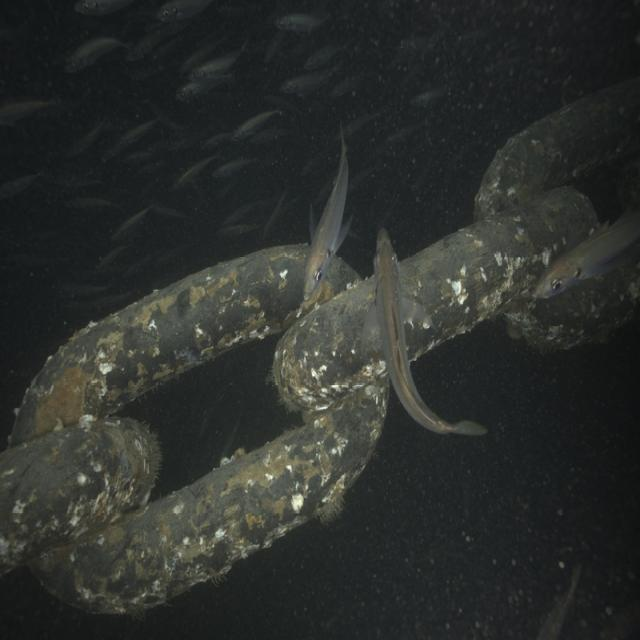ChainLink: (31, 378, 389, 614), (10, 244, 359, 445), (400, 188, 598, 360), (1, 417, 161, 575), (475, 78, 640, 220), (274, 277, 388, 411), (504, 243, 639, 349)
